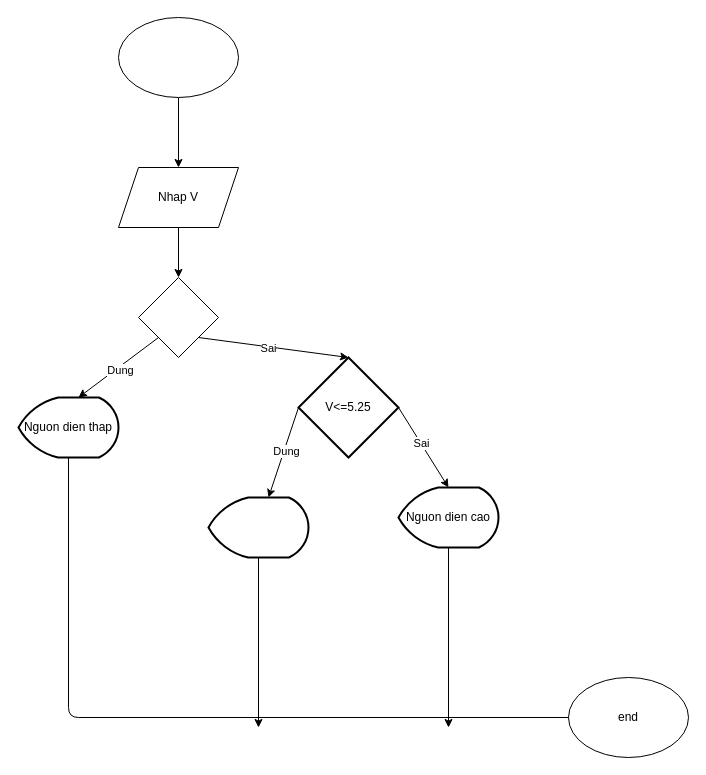
This 706x775 diagram has some shape labels left out. Here are the shapes that lost their labels. From the top down, the centre of each, then its label:
At pixel 178 57: "Start".
At pixel 178 317: "V<4".
At pixel 258 527: "Nguon dien bt".
